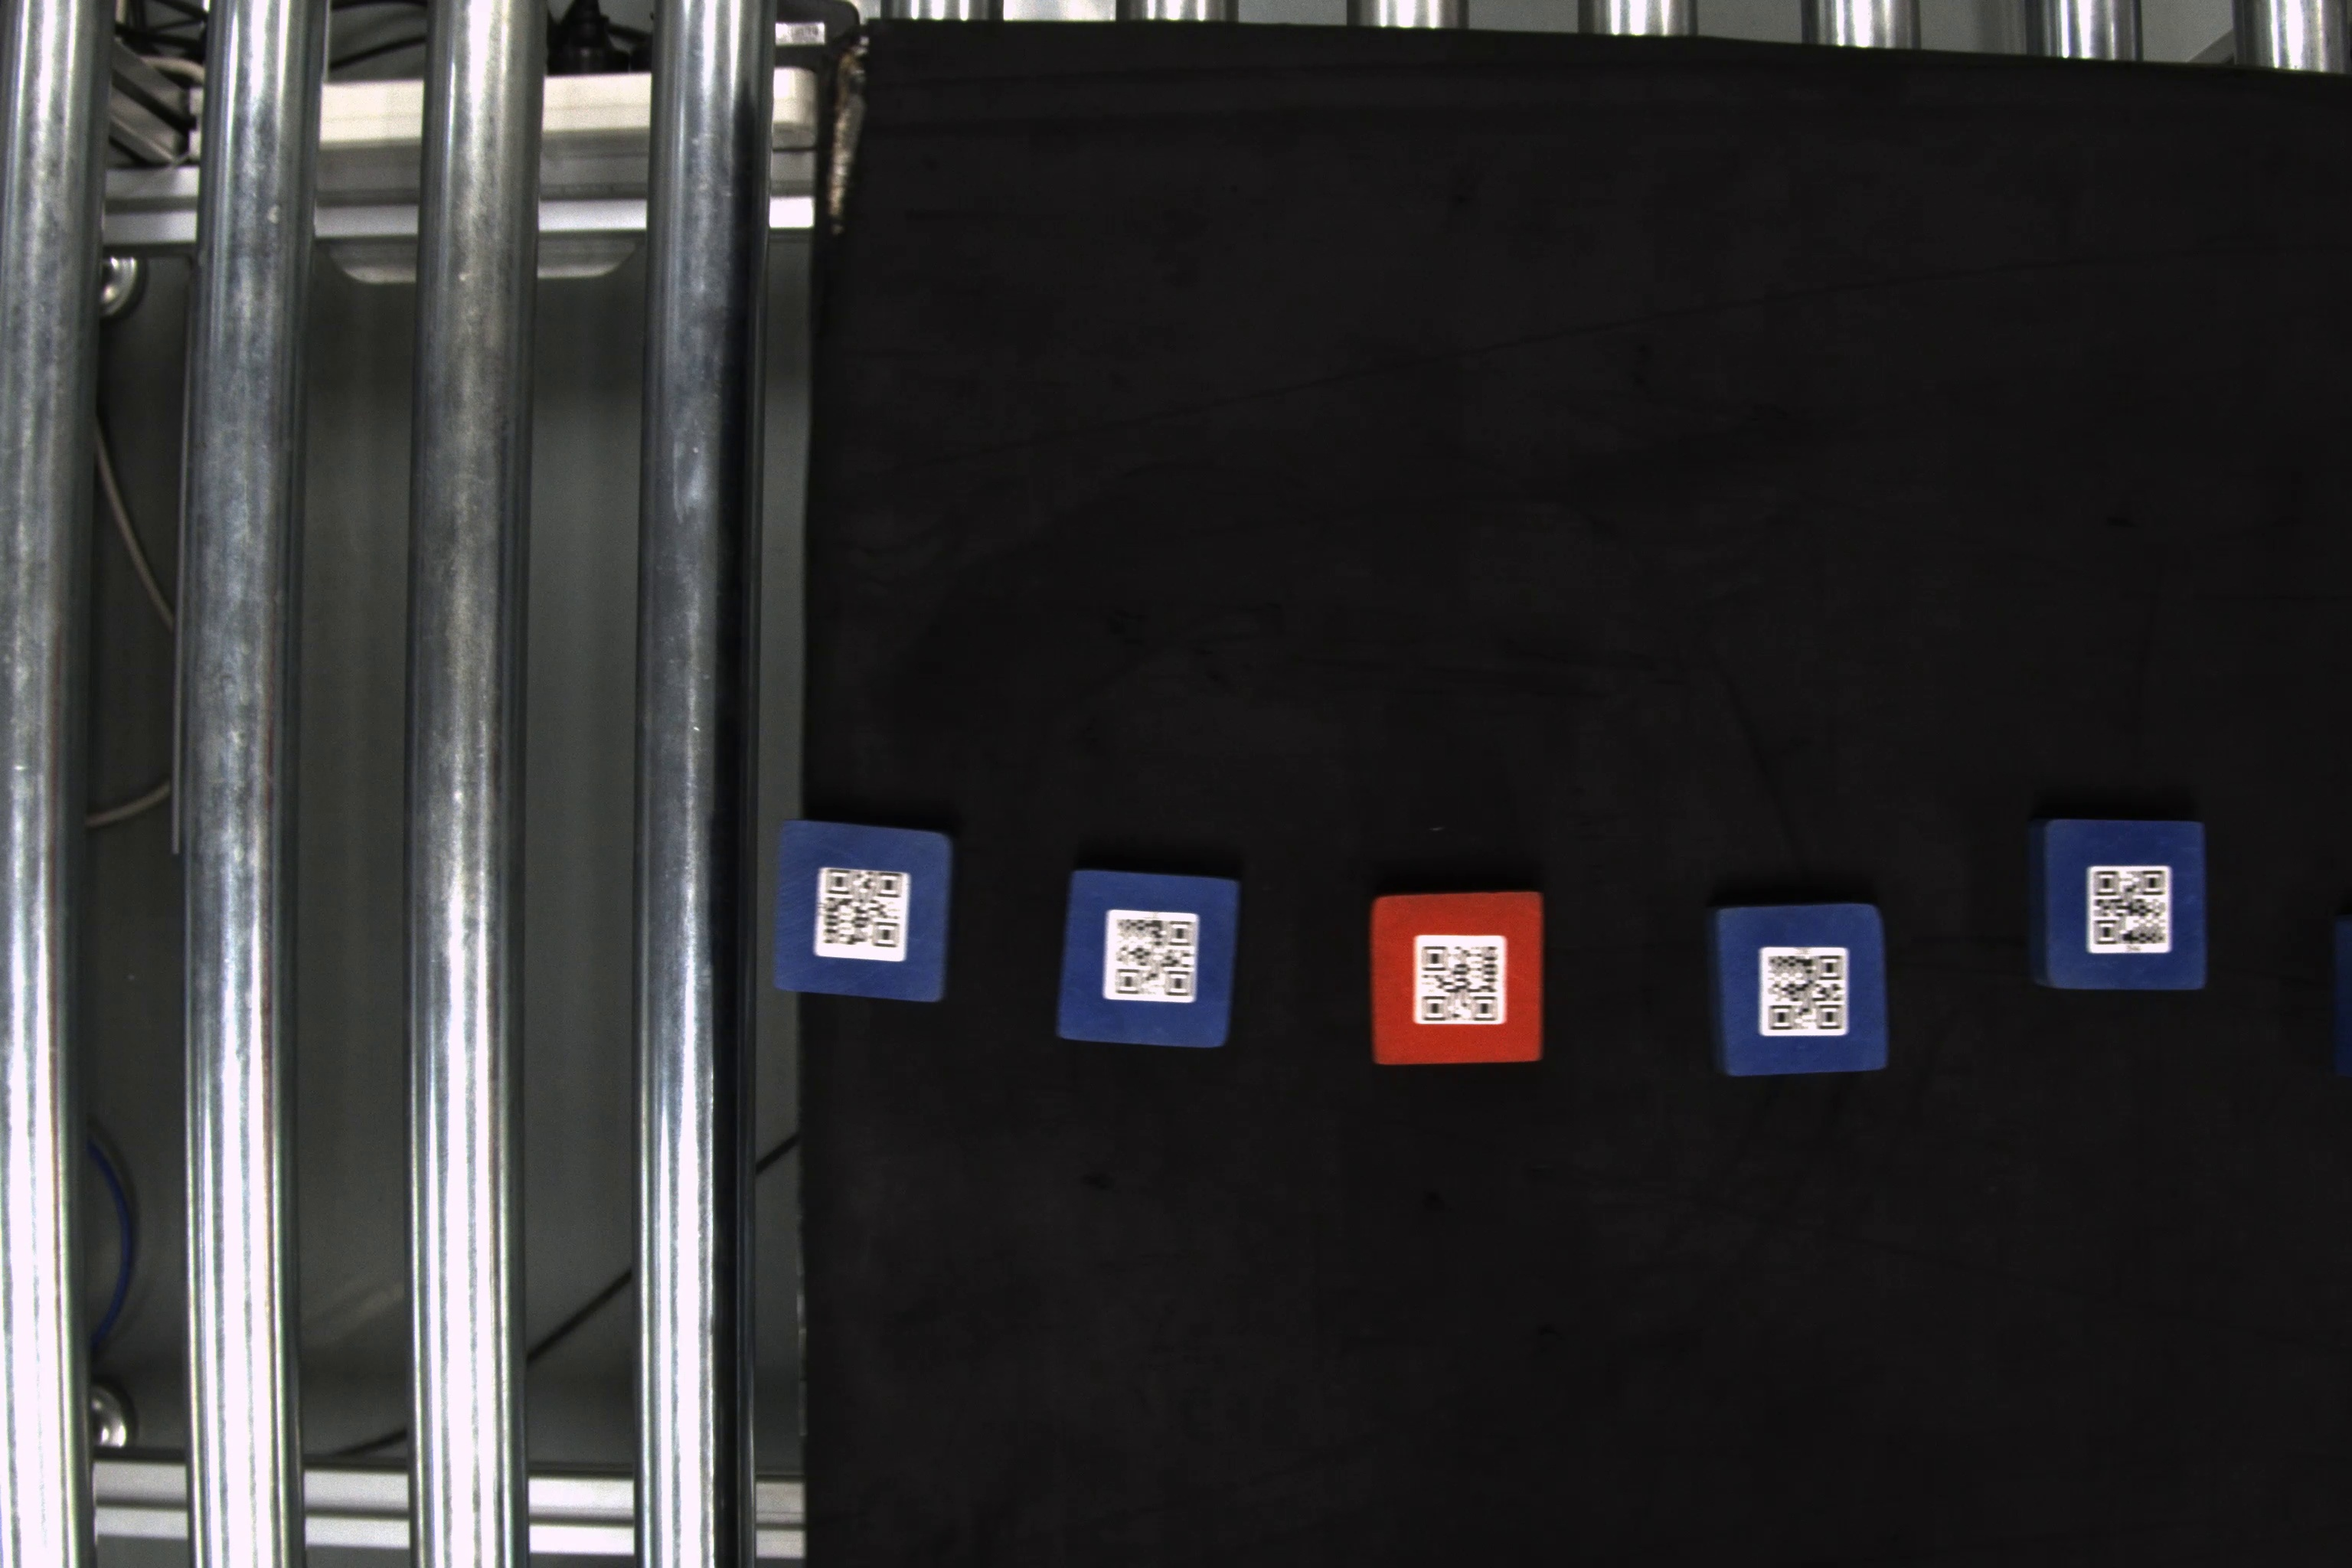wood: (773, 810, 959, 1008), (1057, 871, 1242, 1048), (1708, 906, 1895, 1081), (1370, 884, 1549, 1066), (2033, 819, 2208, 990)
